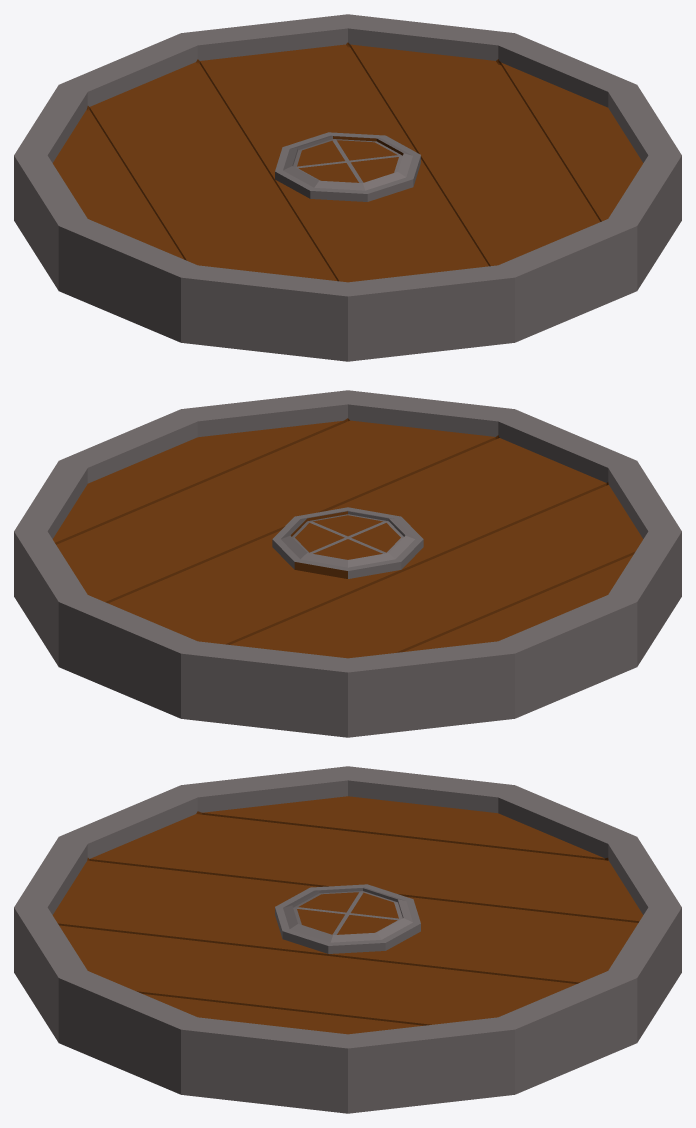
The model's file is Shield.fbx.
3 renders of one model, top to bottom at view 1: azimuth 30°, elevation 25°; view 2: azimuth 150°, elevation 25°; view 3: azimuth 270°, elevation 25°, orthographic.
Visible parts, largest first — view 1: Circle; view 2: Circle; view 3: Circle.
Boxes of the visible parts, x1,y1,x2,y2 form: Circle: (14, 14, 681, 361); Circle: (14, 390, 681, 737); Circle: (14, 766, 681, 1113).
Size of the model in its own units: 65 by 14.12 by 65.
